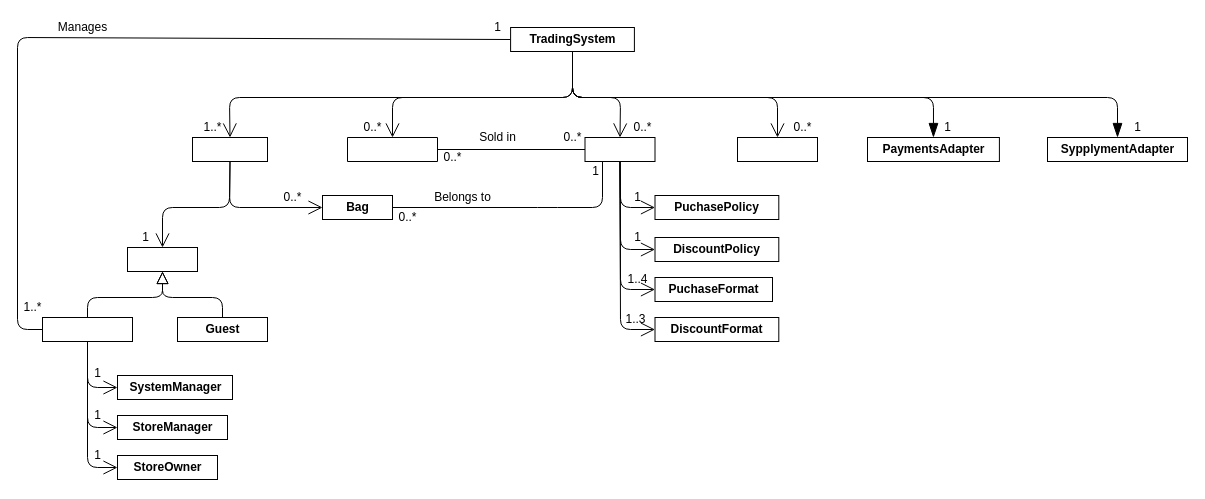
Image size: 1205x499. Some labels were removed from this diagram. Each missing label, with the box of its shape:
Product: (346, 136, 438, 162)
Receipt: (736, 136, 818, 162)
Registered: (42, 316, 132, 342)
State: (126, 246, 198, 272)
Store: (584, 136, 655, 162)
User: (192, 136, 268, 162)
